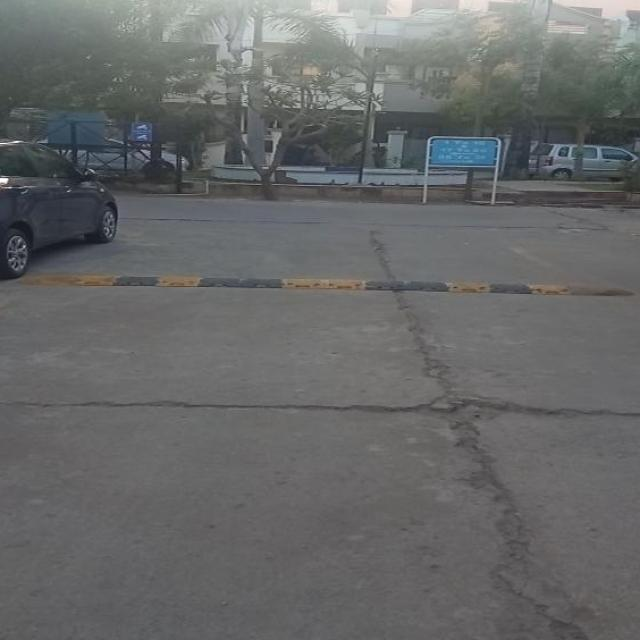Marked Bump: (97, 262, 585, 303)
